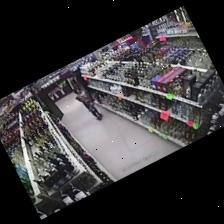person: (75, 87, 102, 120)
